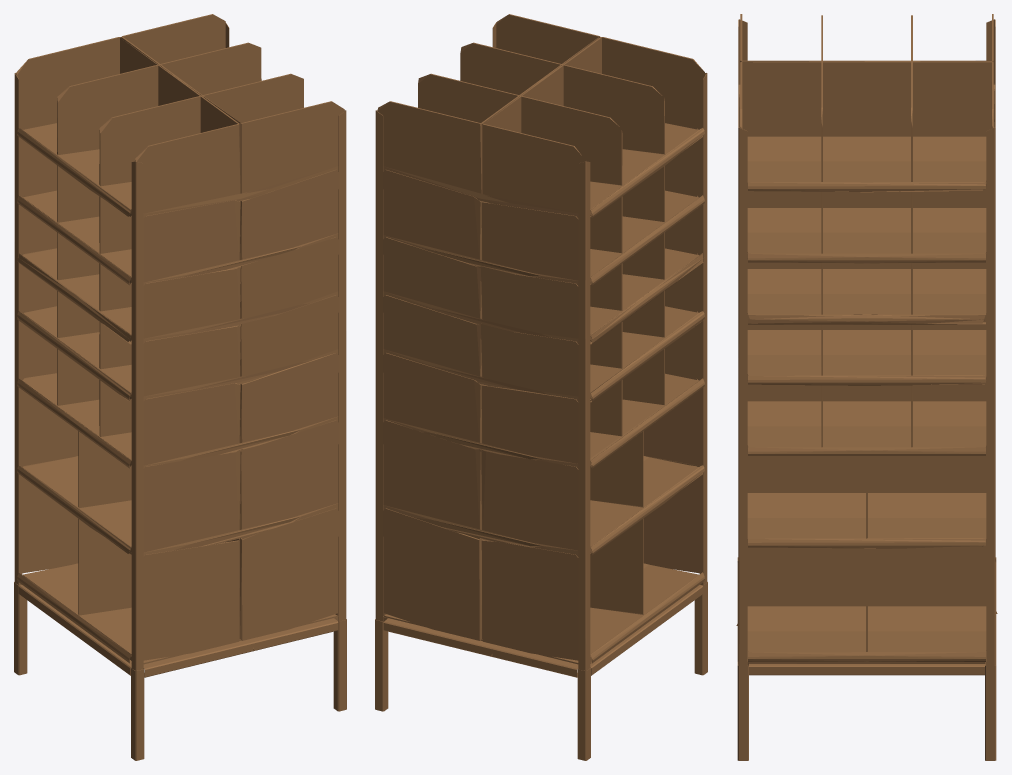
File: pod_lowres.dae
3 renders of one model, left to right at view 1: azimuth 30°, elevation 25°; view 2: azimuth 150°, elevation 25°; view 3: azimuth 270°, elevation 25°, orthographic. The views are drawn at different scales.
Parts seen in each view (by area): view 1: Pod_Lowres; view 2: Pod_Lowres; view 3: Pod_Lowres.
Part boxes in pixels (left/top/right/bottom): Pod_Lowres: left=14, top=14, right=346, bottom=760; Pod_Lowres: left=375, top=14, right=707, bottom=760; Pod_Lowres: left=736, top=14, right=997, bottom=760.
Bounding box in the file's own units: 0.8883 × 0.8868 × 2.41.
